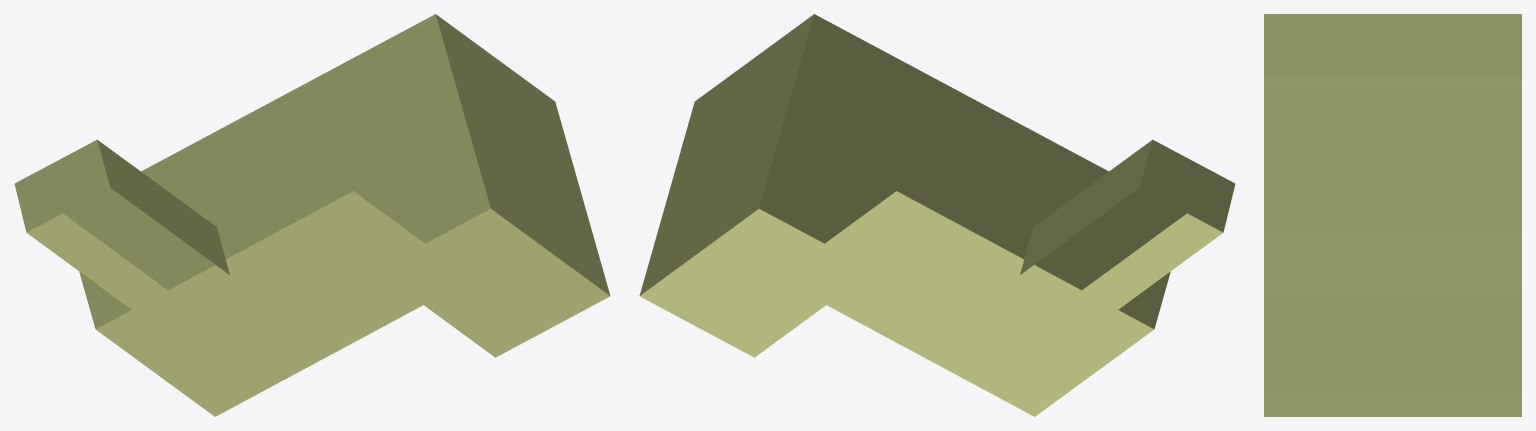
3 views of the same model, side by side, from view 1: azimuth 30°, elevation 25°; view 2: azimuth 150°, elevation 25°; view 3: azimuth 270°, elevation 25° (orthographic). The views are drawn at different scales.
Parts seen in each view (by area): view 1: 0_1_0_2_0_2_0_0_0; view 2: 0_1_0_2_0_2_0_0_0; view 3: 0_1_0_2_0_2_0_0_0.
Boxes of the visible parts, x1,y1,x2,y2 form: 0_1_0_2_0_2_0_0_0: (14, 14, 610, 416); 0_1_0_2_0_2_0_0_0: (639, 14, 1235, 416); 0_1_0_2_0_2_0_0_0: (1264, 14, 1521, 416).
Size of the model in its own units: 13.79 by 6.68 by 6.
